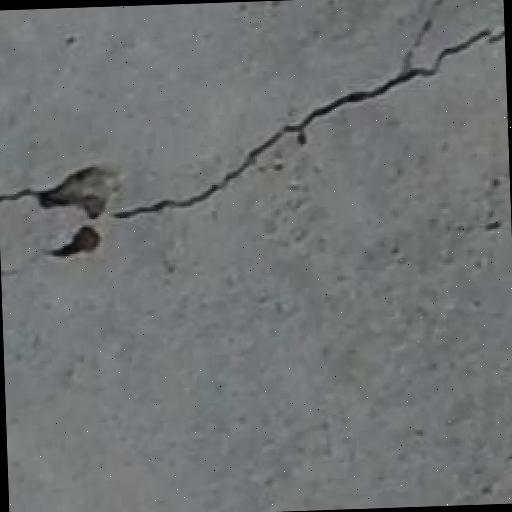spalling: (4, 0, 498, 287)
